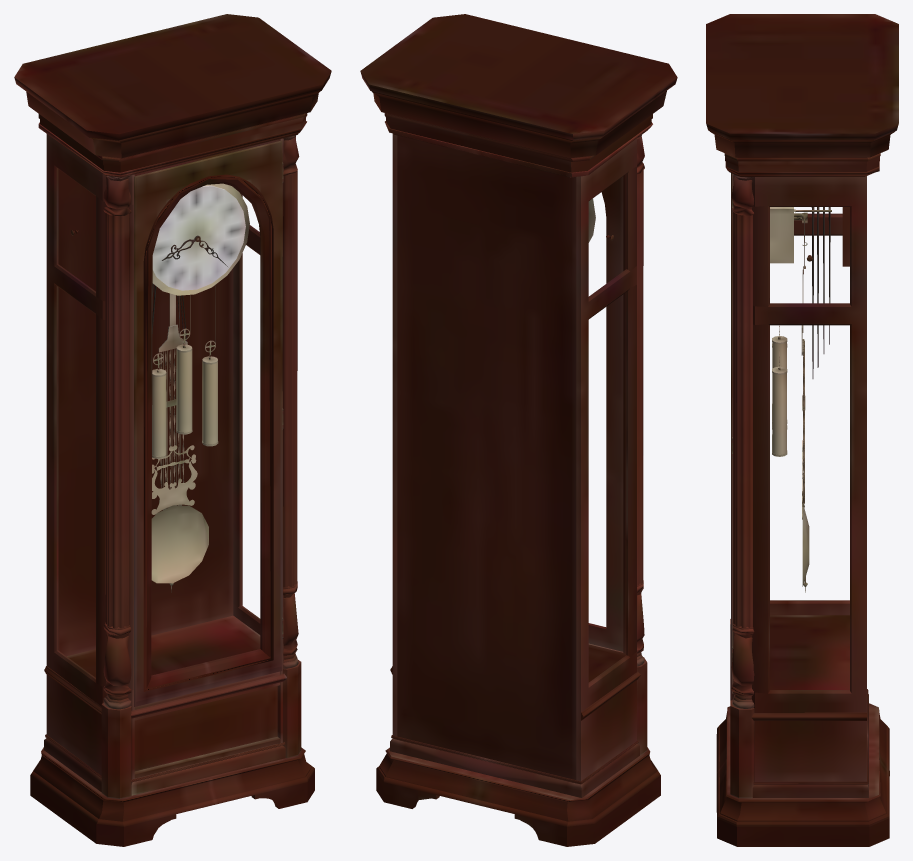
The model's file is clock.glb.
The picture shows the model from 3 angles, left to right: view 1: azimuth 30°, elevation 25°; view 2: azimuth 150°, elevation 25°; view 3: azimuth 270°, elevation 25°; orthographic projection.
Visible parts, largest first — view 1: defaultMaterial; view 2: defaultMaterial; view 3: defaultMaterial.
Part boxes in pixels (x1,y1,x2,y2): defaultMaterial: (14,14,331,846); defaultMaterial: (360,14,677,846); defaultMaterial: (706,14,898,846).
Bounding box in the file's own units: 0.7132 × 2 × 0.4854.
2 materials, 2 textured.
